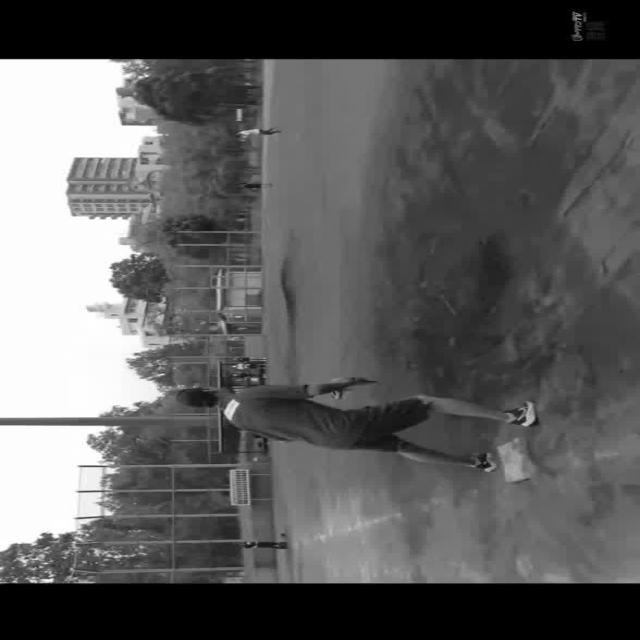base: (496, 440, 538, 484)
baseball_glove: (328, 369, 378, 401)
shoe: (506, 398, 540, 430), (467, 452, 499, 472)
